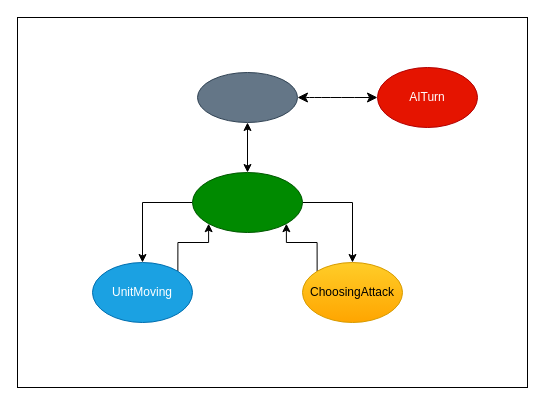
Image size: 545x405. Some labels were removed from this diagram. Here are the shapes that lost their labels. From the top down, the box of each, then its label:
(196, 72, 298, 122): Zero
(192, 172, 302, 232): ChoosingMovement
